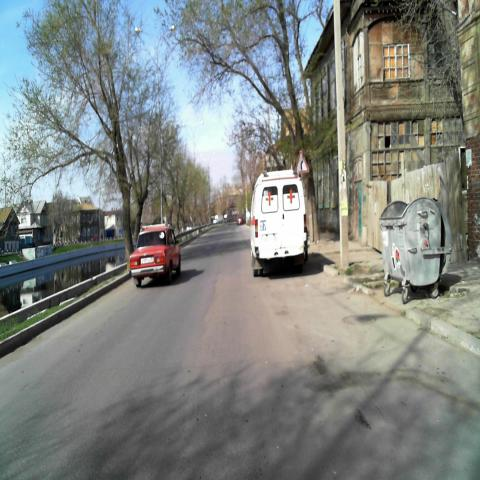1_11: (292, 150, 310, 174)
